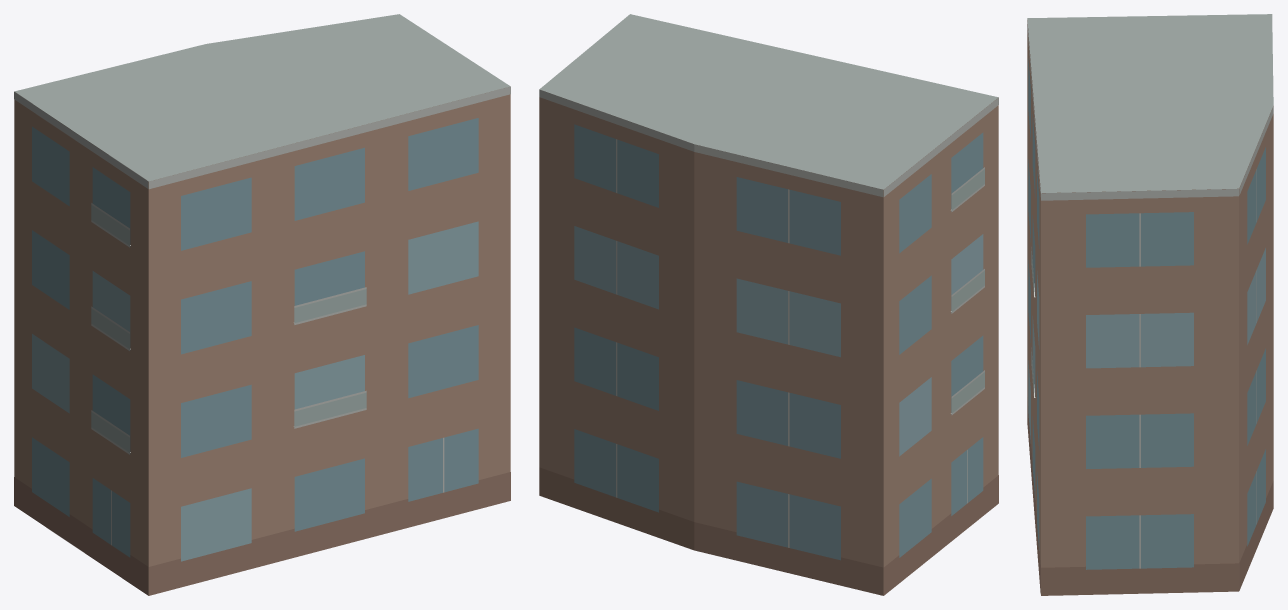
Rendered from survey-upis-32464205.glb.
3 views of the same model, side by side, from view 1: azimuth 30°, elevation 25°; view 2: azimuth 150°, elevation 25°; view 3: azimuth 270°, elevation 25° (orthographic). The views are drawn at different scales.
Visible parts, largest first — view 1: survey-upis-32464205.tmp; view 2: survey-upis-32464205.tmp; view 3: survey-upis-32464205.tmp.
Boxes of the visible parts, x1,y1,x2,y2 form: survey-upis-32464205.tmp: (14,14,510,595); survey-upis-32464205.tmp: (539,14,998,595); survey-upis-32464205.tmp: (1027,14,1273,595).
Bounding box in the file's own units: 12.32 × 12.9 × 7.16.
